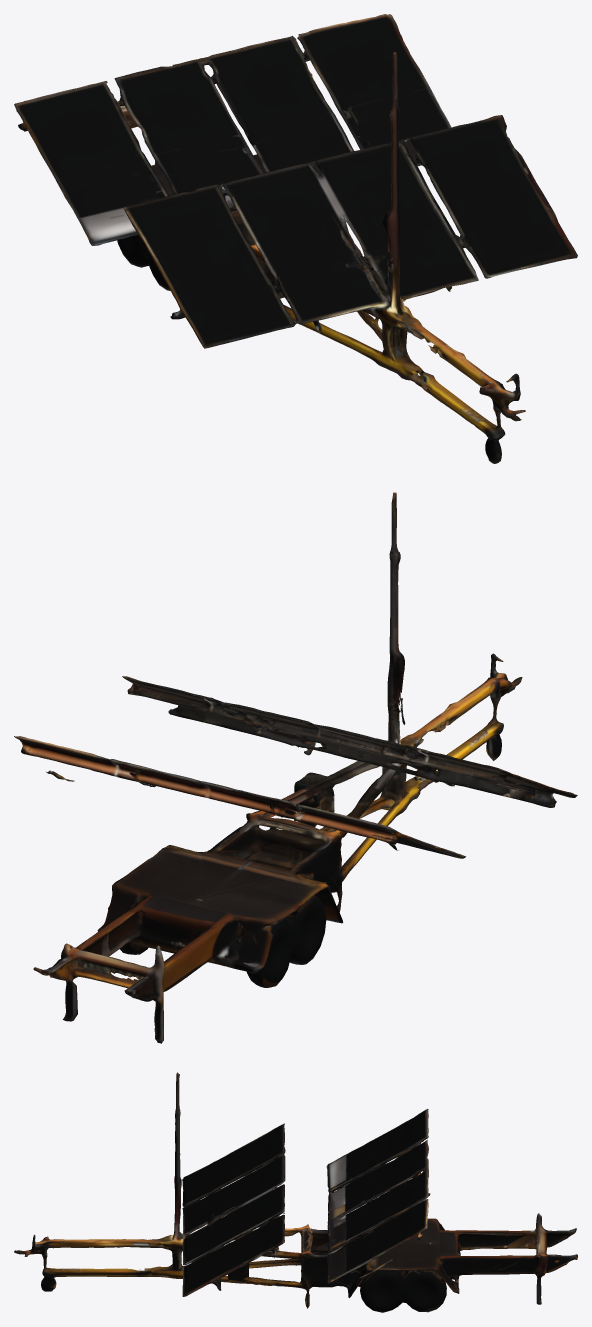
The model's file is solor-unit.obj.
3 views of the same model, one above another, from view 1: azimuth 30°, elevation 25°; view 2: azimuth 150°, elevation 25°; view 3: azimuth 270°, elevation 25° (orthographic). The views are drawn at different scales.
Parts seen in each view (by area): view 1: Mobile_Solar_Unit_1031033520; view 2: Mobile_Solar_Unit_1031033520; view 3: Mobile_Solar_Unit_1031033520.
Part boxes in pixels (box(x1,y1,x2,y2)): Mobile_Solar_Unit_1031033520: box(14, 14, 577, 463); Mobile_Solar_Unit_1031033520: box(14, 492, 577, 1043); Mobile_Solar_Unit_1031033520: box(14, 1072, 577, 1312).
Size of the model in its own units: 1.02 by 0.8698 by 2.
